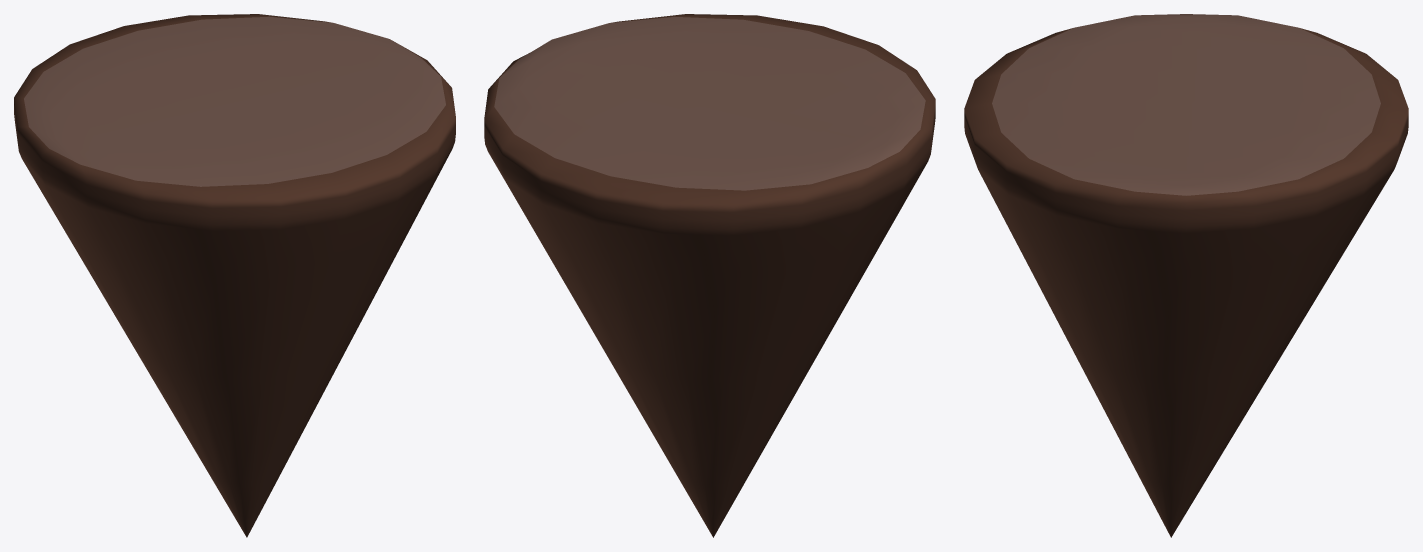
Rendered from Piso.fbx.
3 renders of one model, left to right at view 1: azimuth 30°, elevation 25°; view 2: azimuth 150°, elevation 25°; view 3: azimuth 270°, elevation 25°, orthographic. The views are drawn at different scales.
Parts seen in each view (by area): view 1: pCone1; view 2: pCone1; view 3: pCone1.
Part boxes in pixels (left/top/right/bottom): pCone1: left=14, top=14, right=455, bottom=537; pCone1: left=484, top=14, right=935, bottom=537; pCone1: left=964, top=14, right=1408, bottom=537.
Size of the model in its own units: 1.9 by 2.05 by 1.9.
